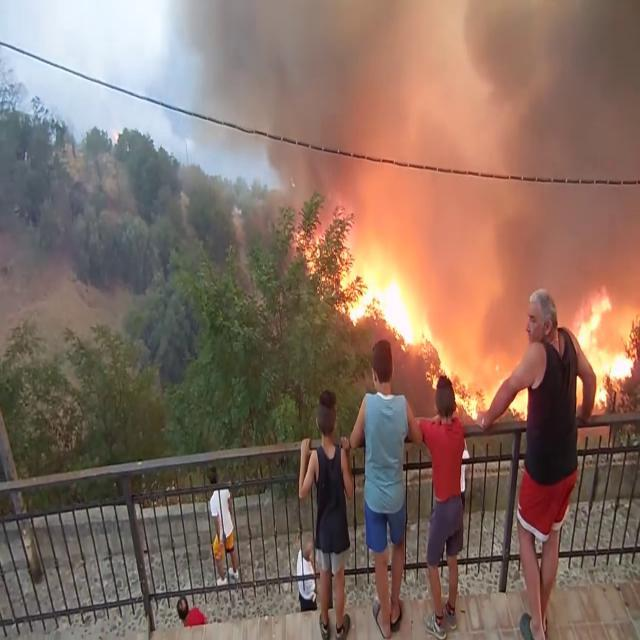Fire: (333, 244, 432, 347), (572, 290, 640, 408), (436, 333, 524, 423)
Smoke: (193, 1, 639, 247)
